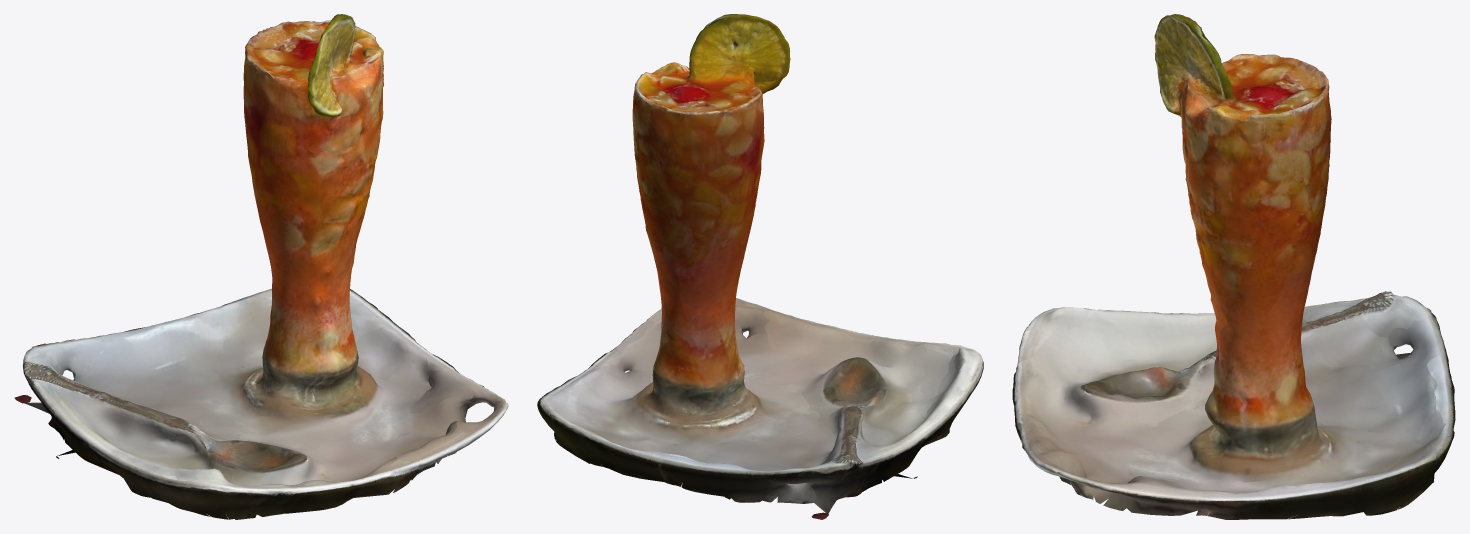
Rendered from salpicon_baked.glb.
3 renders of one model, left to right at view 1: azimuth 30°, elevation 25°; view 2: azimuth 150°, elevation 25°; view 3: azimuth 270°, elevation 25°, orthographic. The views are drawn at different scales.
Visible parts, largest first — view 1: Mesh_0; view 2: Mesh_0; view 3: Mesh_0.
Part boxes in pixels (x1,y1,x2,y2): Mesh_0: (14, 14, 508, 519); Mesh_0: (537, 14, 983, 519); Mesh_0: (1012, 14, 1455, 519).
Bounding box in the file's own units: 1.86 × 1.99 × 1.82.
Materials: 1 (1 with a texture image).
